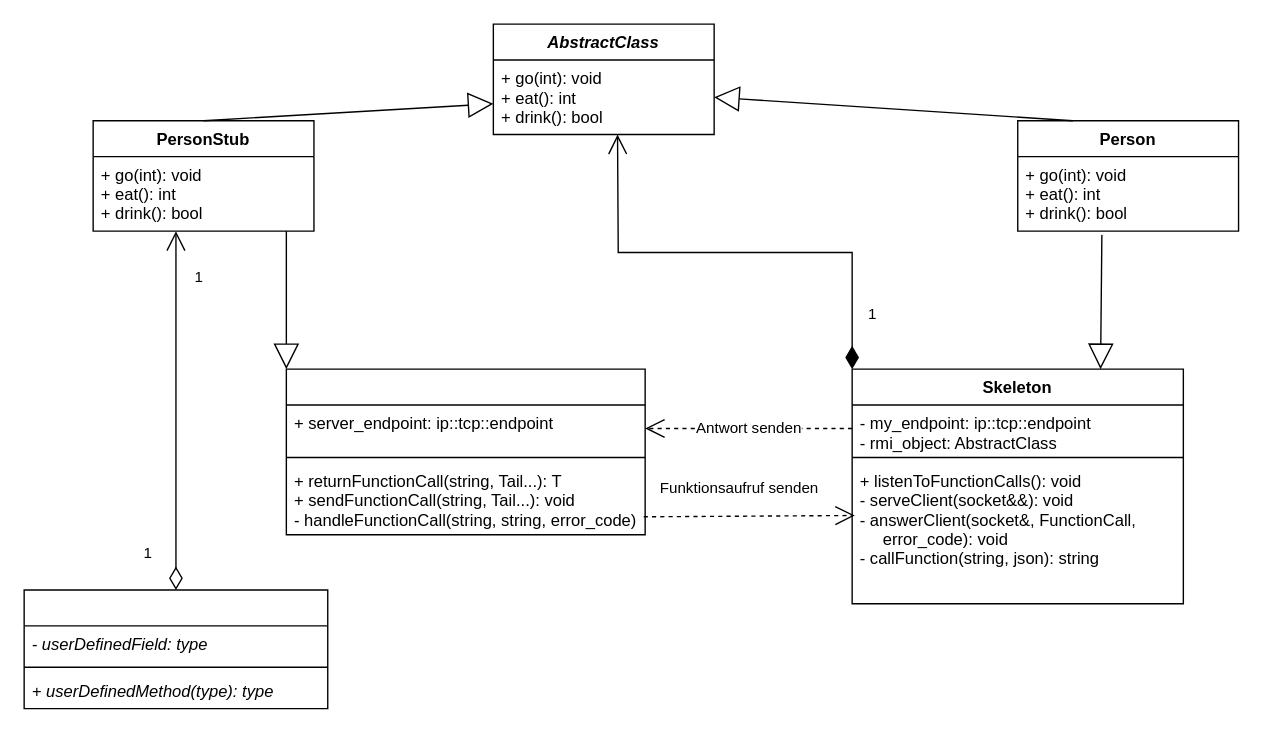
This 1263x737 diagram has some shape labels left out. The box of each missing label's shape, as (x1, y1, x2, y2) in pixels:
Client: (23, 589, 328, 709)
RemoteFunctionCaller: (285, 368, 645, 535)
